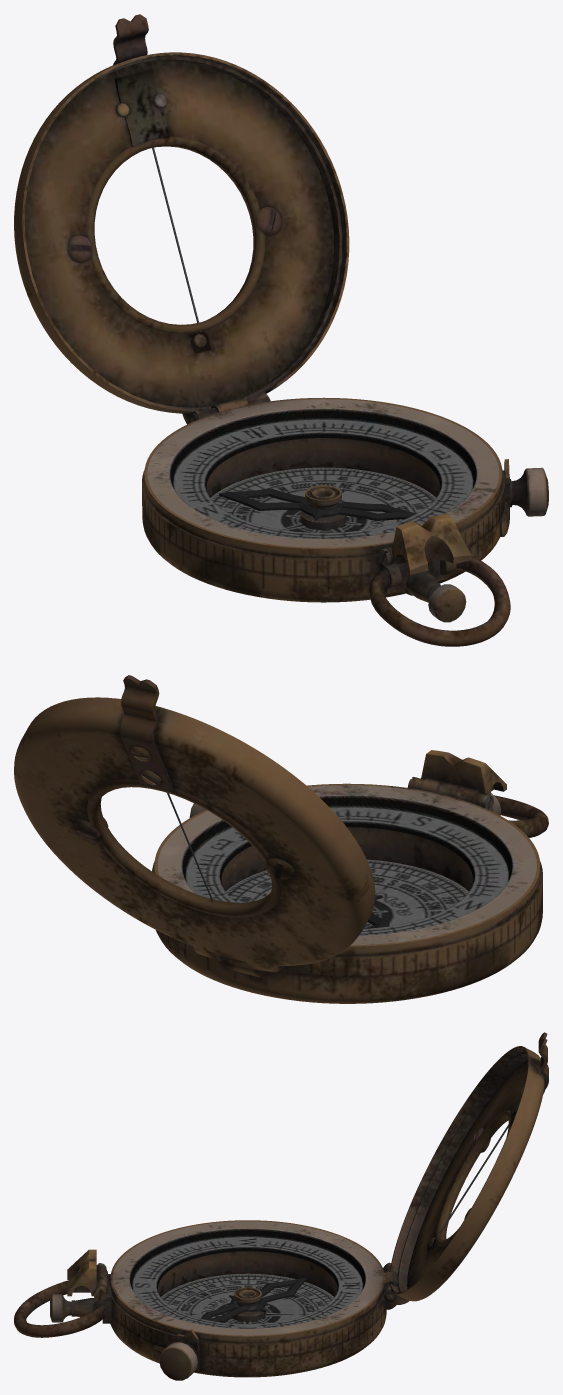
The model's file is seadogs_compass_1k-slim.glb.
The picture shows the model from 3 angles, top to bottom: view 1: azimuth 30°, elevation 25°; view 2: azimuth 150°, elevation 25°; view 3: azimuth 270°, elevation 25°; orthographic projection. The views are drawn at different scales.
Visible parts, largest first — view 1: seadogs_compass_lid, seadogs_compass, seadogs_compass_needle; view 2: seadogs_compass_lid, seadogs_compass; view 3: seadogs_compass, seadogs_compass_lid, seadogs_compass_needle.
Boxes of the visible parts, <box> form: seadogs_compass_lid: <box>14,14,349,424</box>; seadogs_compass: <box>142,397,548,646</box>; seadogs_compass_needle: <box>219,488,415,520</box>; seadogs_compass_lid: <box>14,675,375,972</box>; seadogs_compass: <box>152,750,548,1003</box>; seadogs_compass: <box>14,1220,397,1380</box>; seadogs_compass_lid: <box>382,1032,548,1305</box>; seadogs_compass_needle: <box>201,1278,306,1322</box>.
Size of the model in its own units: 0.0813 by 0.0866 by 0.1441.
1 material, 1 textured.
